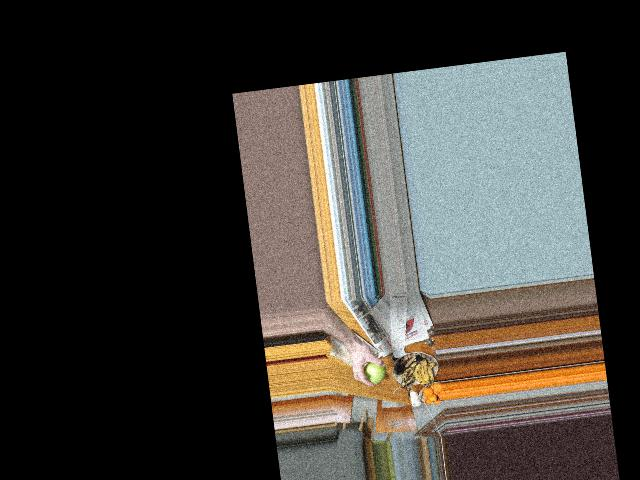apple: (362, 359, 385, 386)
